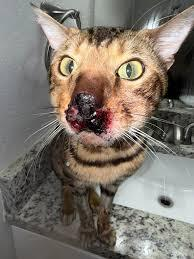bleeding: (62, 88, 141, 139)
